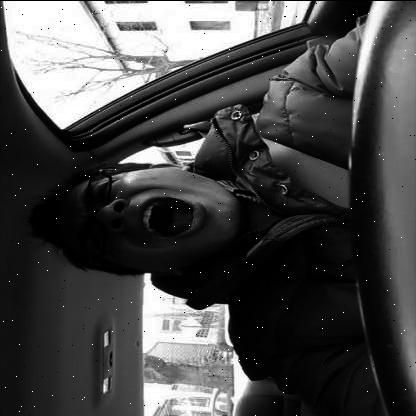seatbelt: (9, 100, 349, 310)
